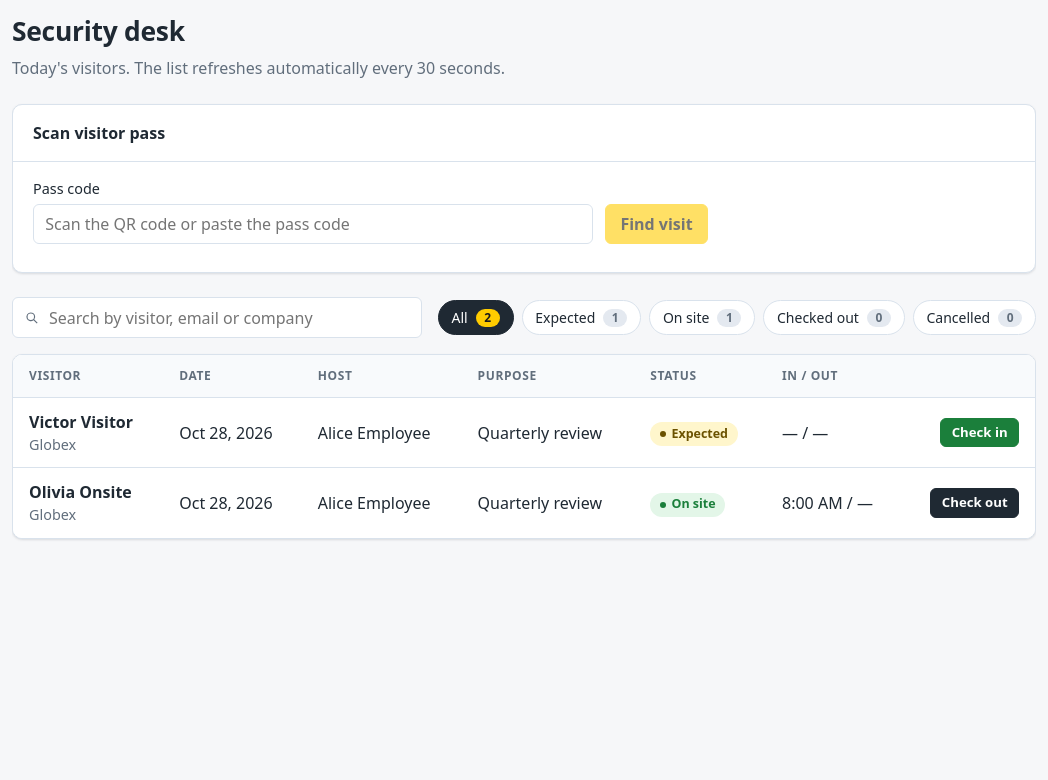
Scenario: TodayVisitsPage (security desk) › checks a visitor in and confirms with a notification
The image size is (1048, 780).
Click the button "Check in" at (980, 433), box 940,418 -> 1019,448
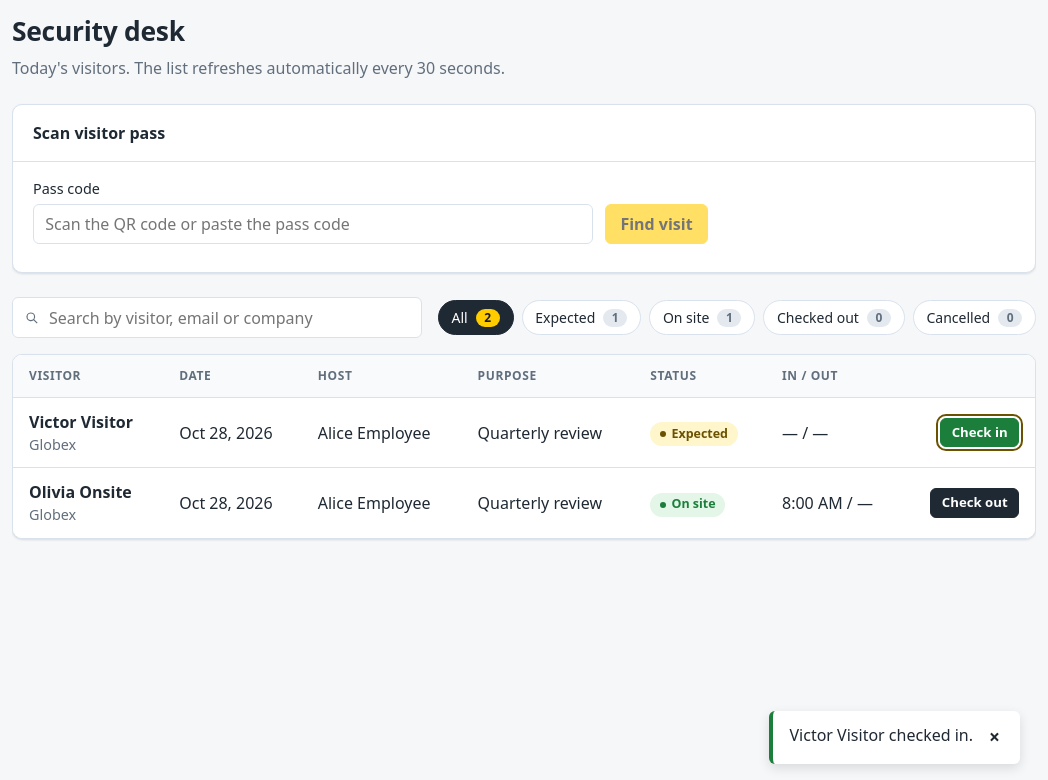
Check: the text "Victor Visitor checked in." is shown, box 790,723 -> 973,747
